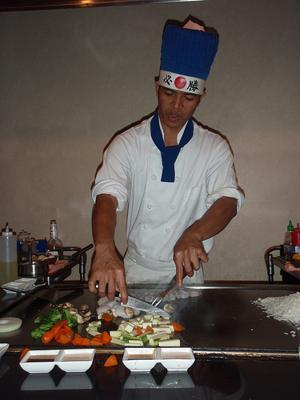person: (84, 16, 244, 307)
